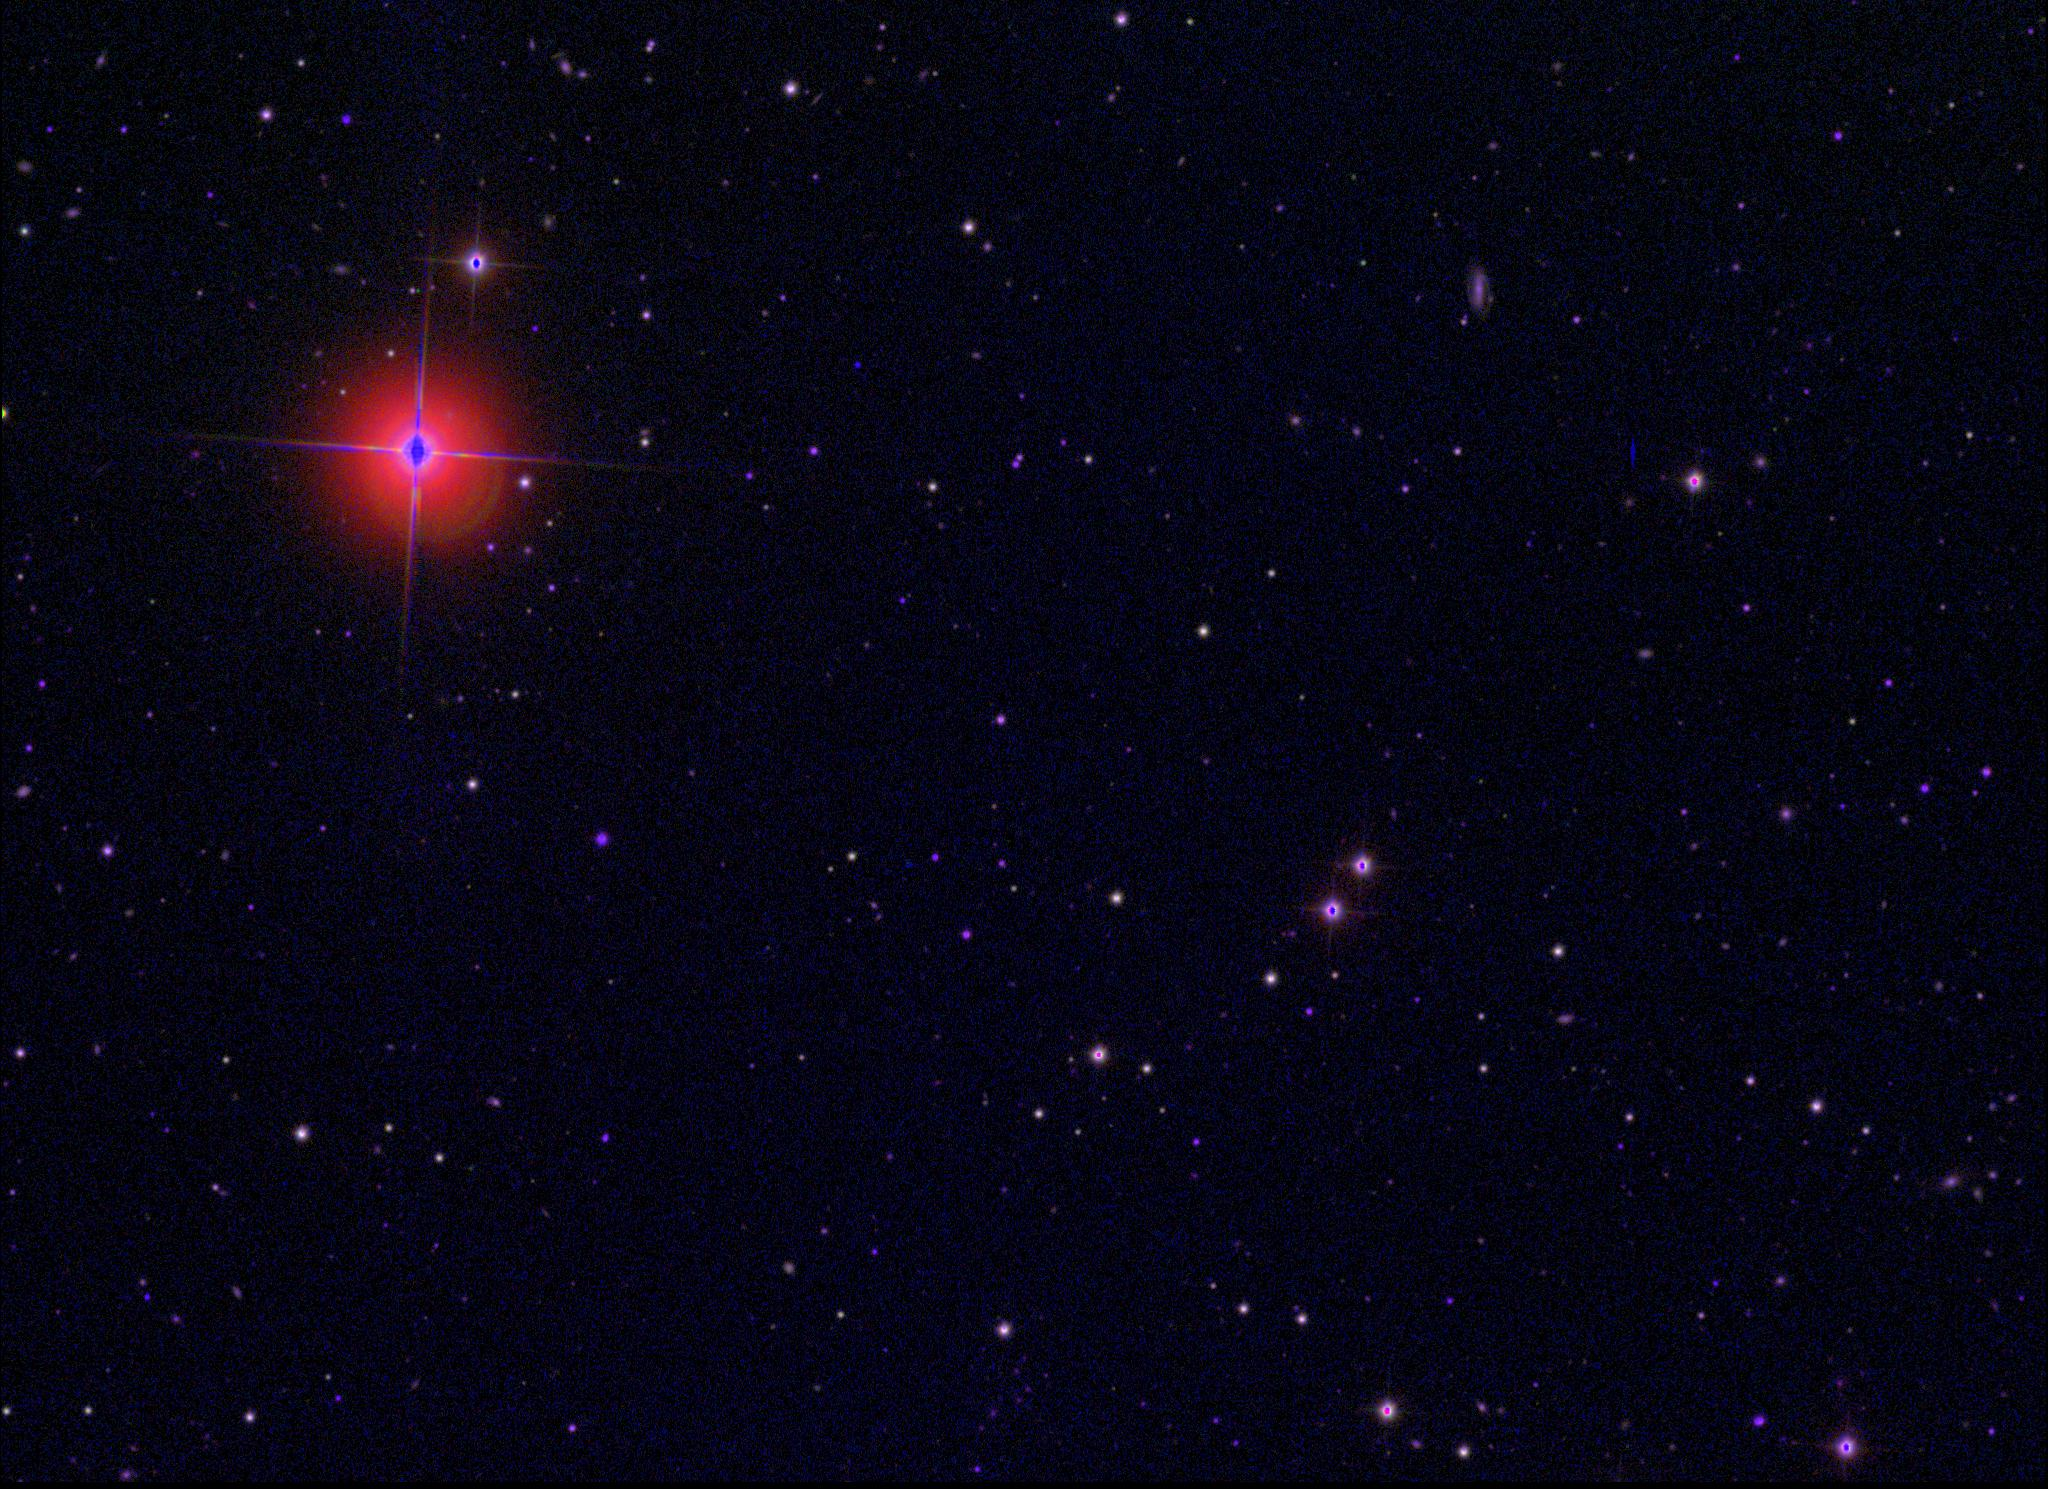L: (851, 356, 865, 371)
